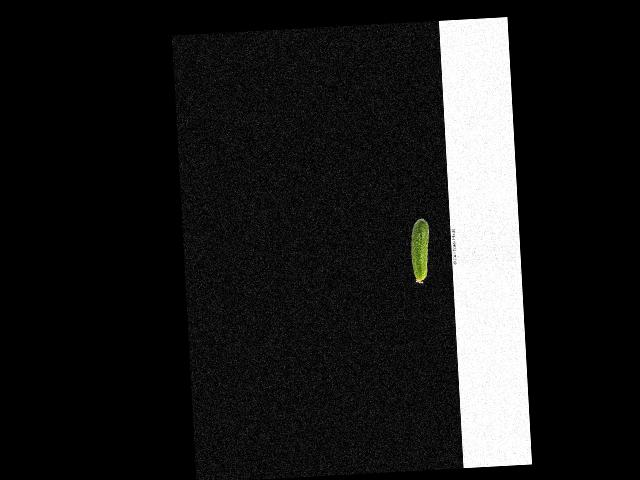cucumber: (409, 218, 431, 283)
